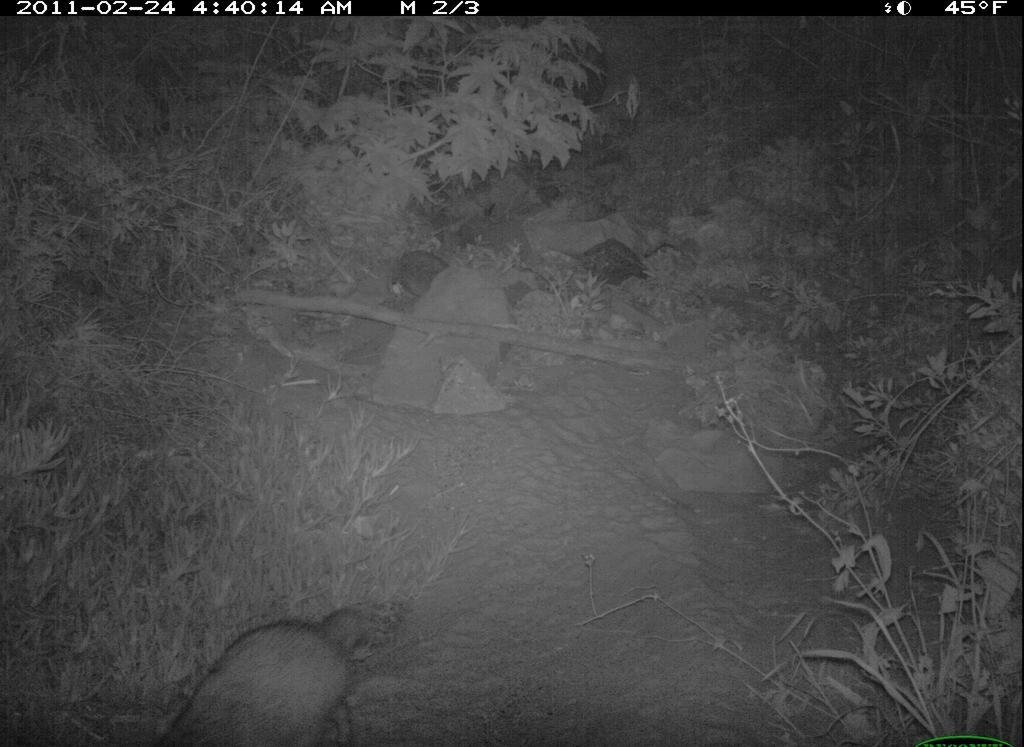raccoon: (144, 606, 381, 747)
